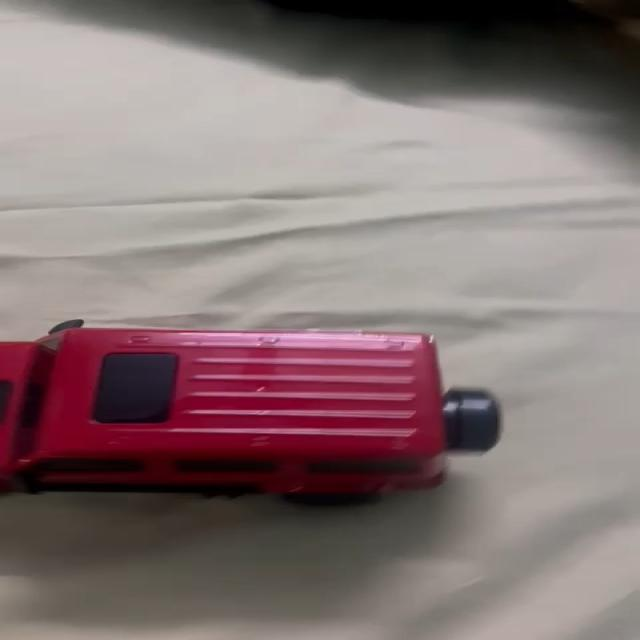light_vehicle: (4, 312, 501, 516)
